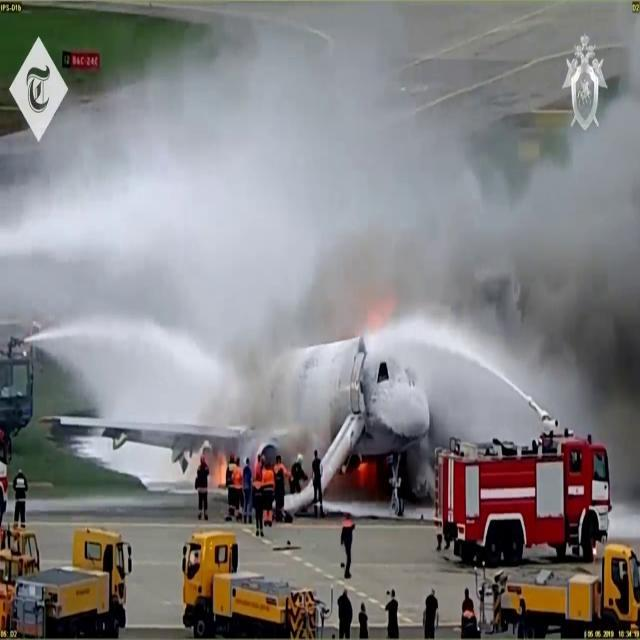Smoke: (11, 3, 640, 434)
